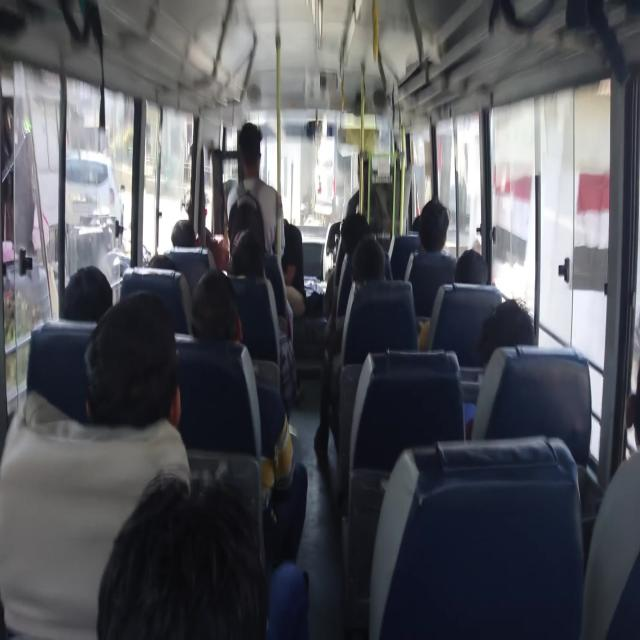person: (98, 473, 268, 638), (83, 290, 179, 430), (416, 230, 498, 352), (408, 198, 457, 308), (474, 298, 536, 366), (190, 267, 242, 345), (61, 265, 114, 324), (351, 234, 387, 284), (230, 229, 266, 279), (338, 212, 370, 257), (454, 248, 489, 285), (237, 122, 263, 162), (171, 219, 196, 248), (147, 254, 179, 273), (412, 215, 422, 232)
